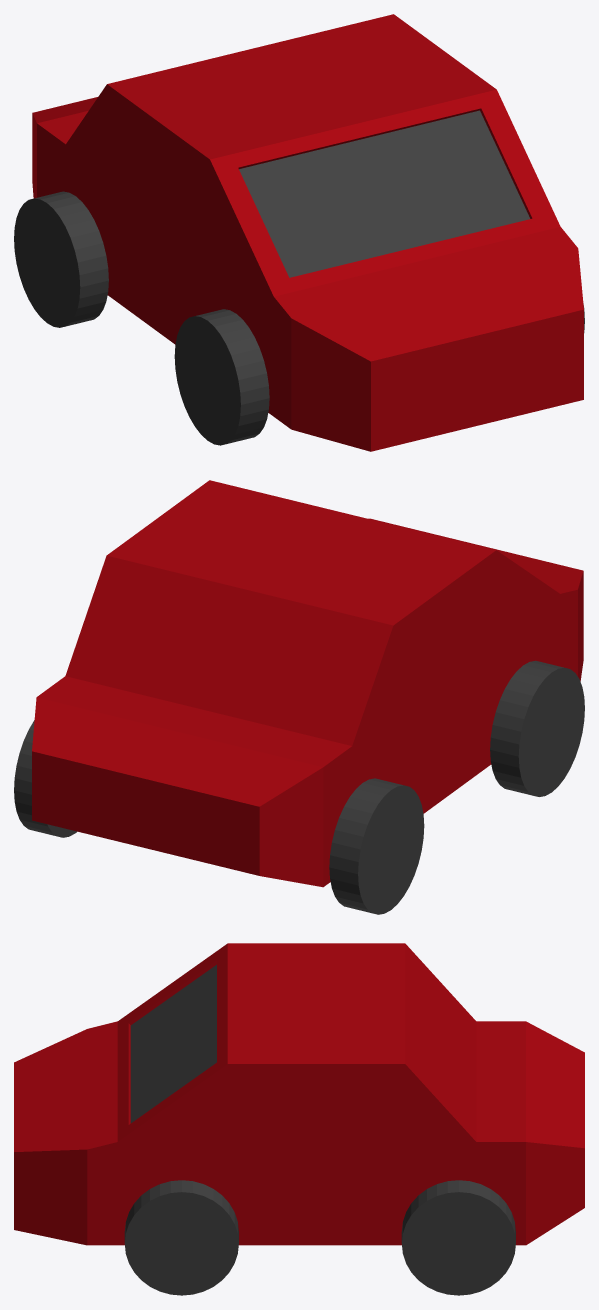
File: HAAAMOOOOOOOOOOOOOOOOOOOOOOOOND.fbx
The picture shows the model from 3 angles, top to bottom: view 1: azimuth 30°, elevation 25°; view 2: azimuth 150°, elevation 25°; view 3: azimuth 270°, elevation 25°; orthographic projection. The views are drawn at different scales.
Visible parts, largest first — view 1: Cube, Cube.001, Cylinder.003, Cylinder.002; view 2: Cube, Cylinder.002, Cylinder.003, Cylinder.001; view 3: Cube, Cylinder, Cylinder.001, Cube.001.
Boxes of the visible parts, x1,y1,x2,y2 form: Cube: (32,14,583,451); Cube.001: (239,110,530,277); Cylinder.003: (174,309,269,445); Cylinder.002: (14,191,108,327); Cube: (32,480,583,887); Cylinder.002: (329,778,424,914); Cylinder.003: (490,660,584,796); Cylinder.001: (14,720,76,837); Cube: (14,943,584,1245); Cylinder: (124,1180,238,1295); Cylinder.001: (401,1180,515,1295); Cube.001: (130,964,216,1123).
Size of the model in its own units: 240 by 170 by 400.
